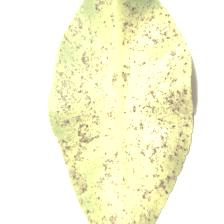canker: (70, 46, 175, 179)
